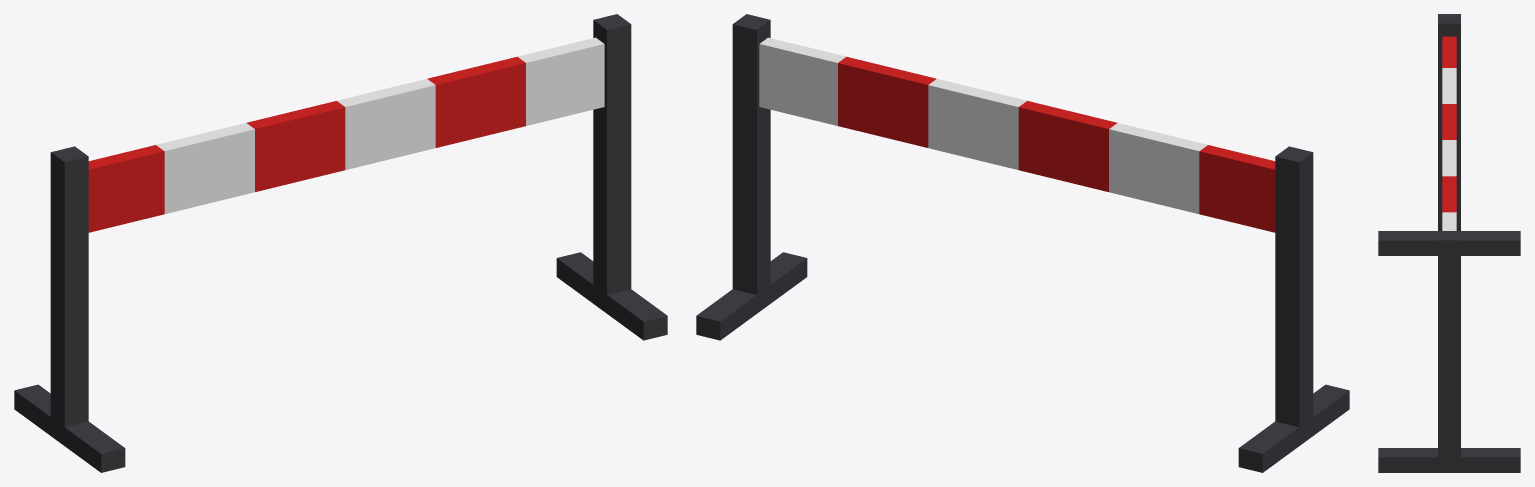
Rendered from barrier.glb.
3 renders of one model, left to right at view 1: azimuth 30°, elevation 25°; view 2: azimuth 150°, elevation 25°; view 3: azimuth 270°, elevation 25°, orthographic. The views are drawn at different scales.
Visible parts, largest first — view 1: barrier; view 2: barrier; view 3: barrier.
Boxes of the visible parts, x1,y1,x2,y2 form: barrier: (14,14,667,472); barrier: (696,14,1349,472); barrier: (1378,14,1520,472).
Bounding box in the file's own units: 1.88 × 0.9 × 0.5.
